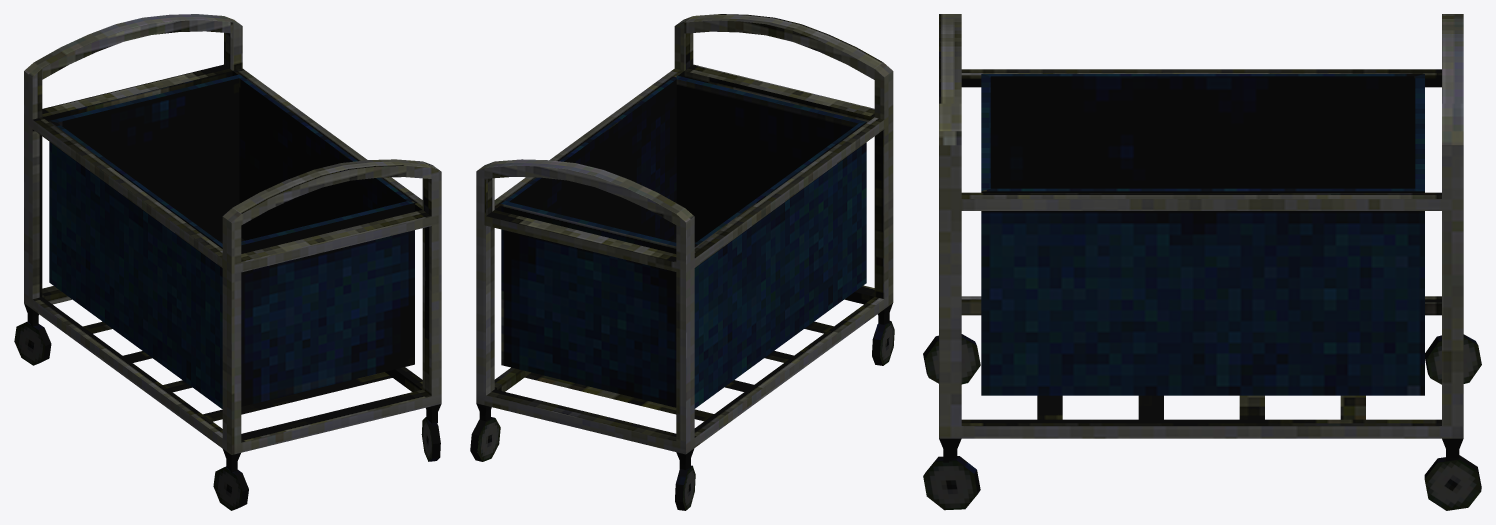
Rendered from SM_LaundryCart.fbx.
3 renders of one model, left to right at view 1: azimuth 30°, elevation 25°; view 2: azimuth 150°, elevation 25°; view 3: azimuth 270°, elevation 25°, orthographic. The views are drawn at different scales.
Visible parts, largest first — view 1: SM_LaundryCart; view 2: SM_LaundryCart; view 3: SM_LaundryCart.
Part boxes in pixels (x1,y1,x2,y2): SM_LaundryCart: [14, 14, 441, 510]; SM_LaundryCart: [470, 14, 894, 510]; SM_LaundryCart: [923, 14, 1481, 510].
Bounding box in the file's own units: 74.76 × 103 × 132.
